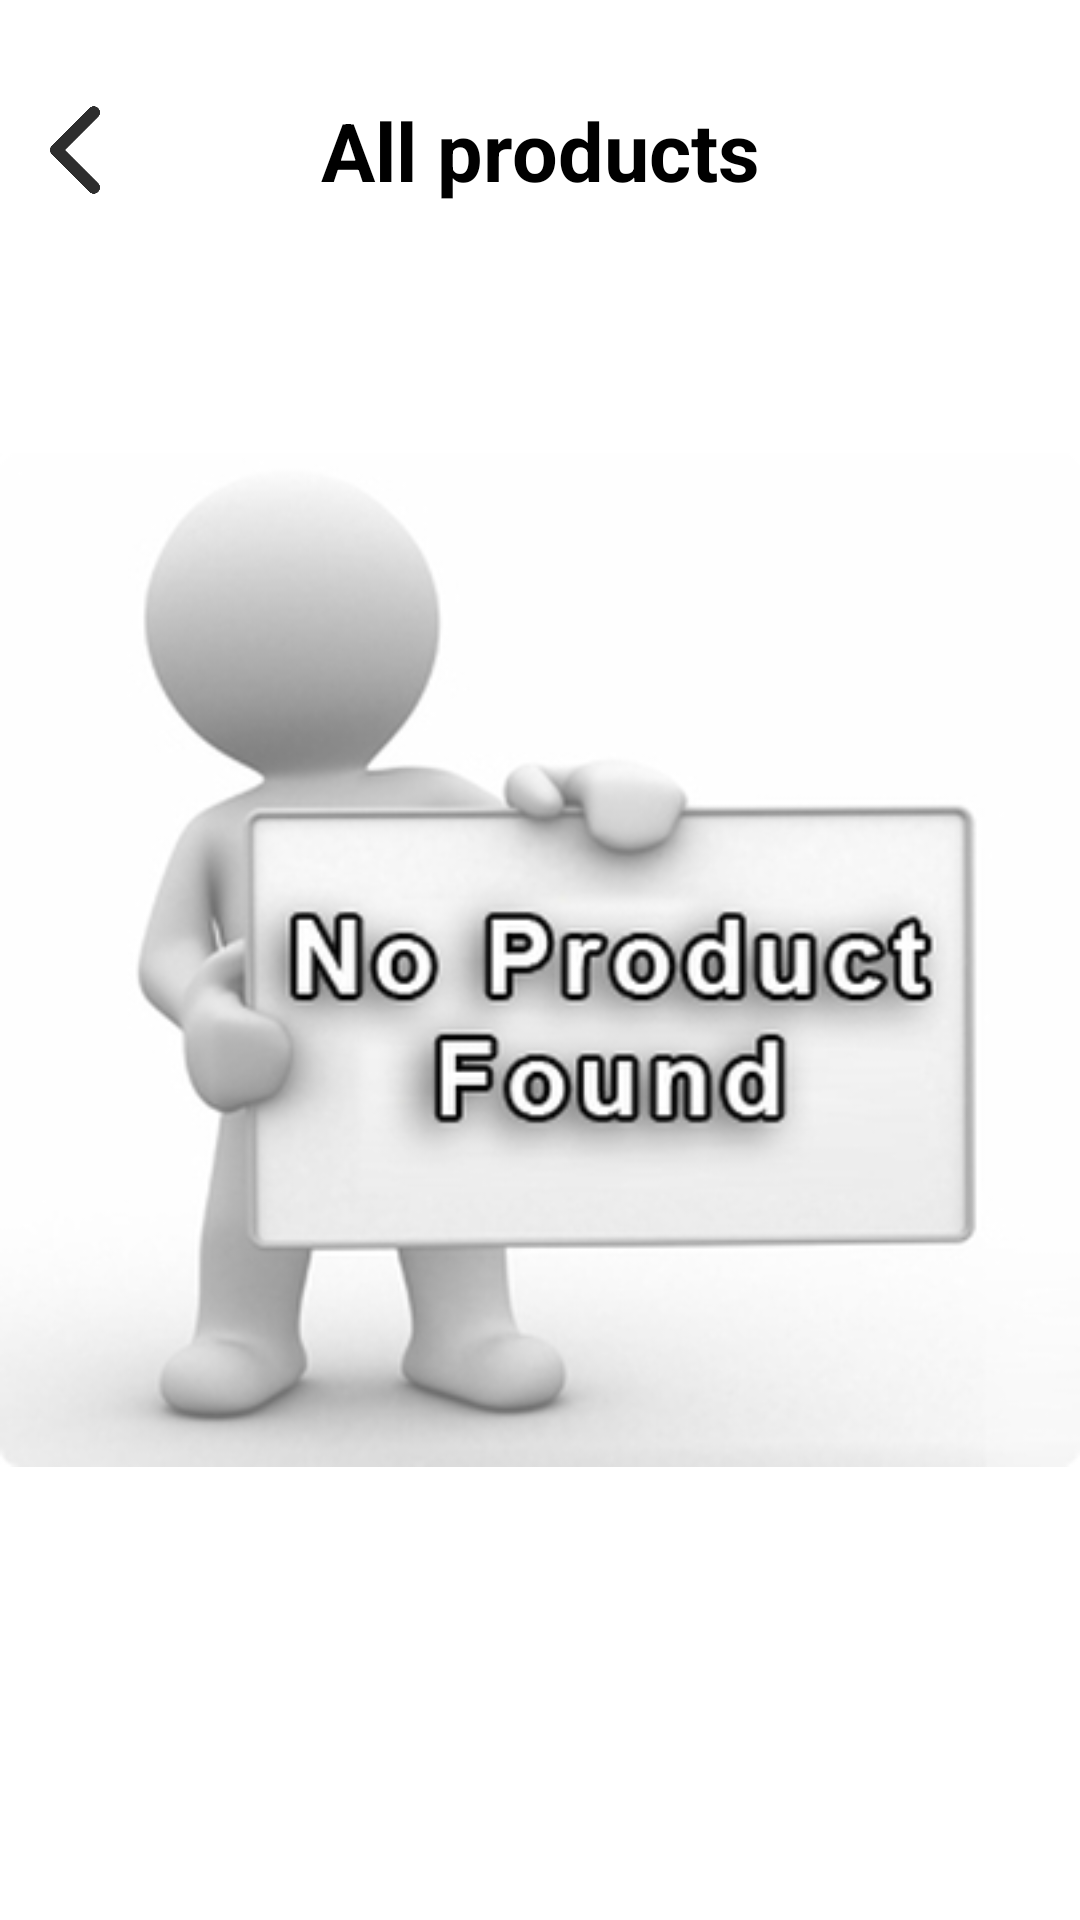

Icon click points for this 1080px x 1920px phone screenshot, format [x,y]:
back: [75,150]
